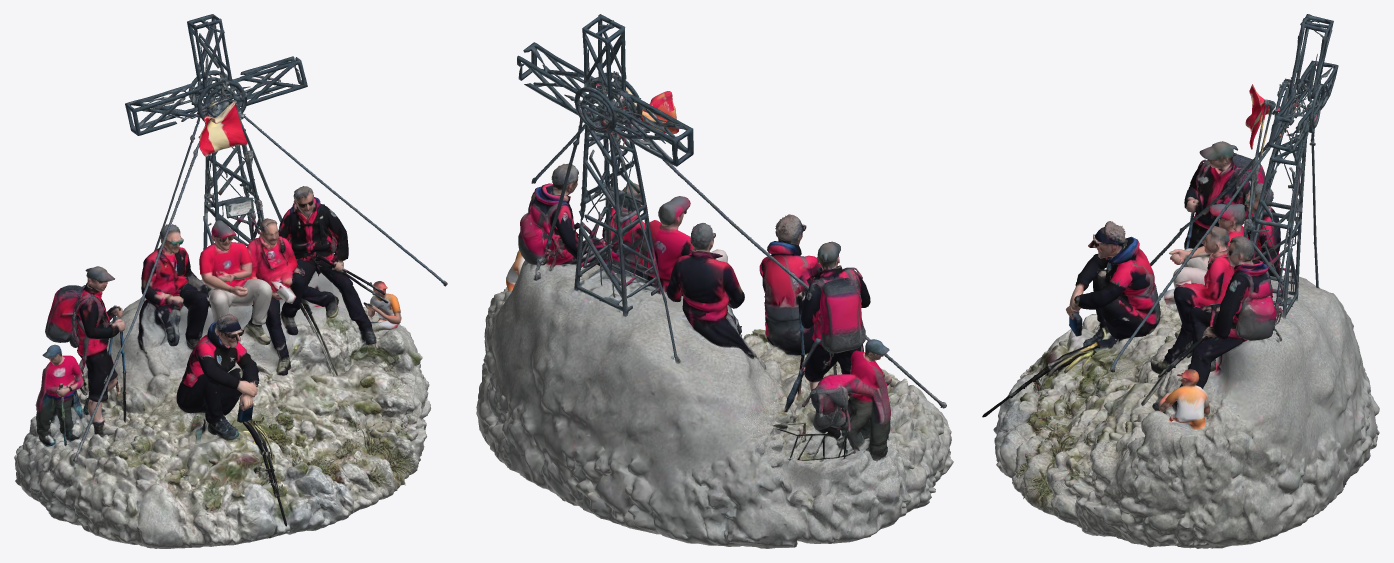
File: gev.glb
3 renders of one model, left to right at view 1: azimuth 30°, elevation 25°; view 2: azimuth 150°, elevation 25°; view 3: azimuth 270°, elevation 25°, orthographic. The views are drawn at different scales.
Parts seen in each view (by area): view 1: Mesh_0; view 2: Mesh_0; view 3: Mesh_0.
Part boxes in pixels (x1,y1,x2,y2): Mesh_0: [14, 14, 447, 548]; Mesh_0: [476, 14, 953, 548]; Mesh_0: [982, 14, 1379, 548].
Size of the model in its own units: 1.8 by 1.9 by 1.48.
1 material, 1 textured.
